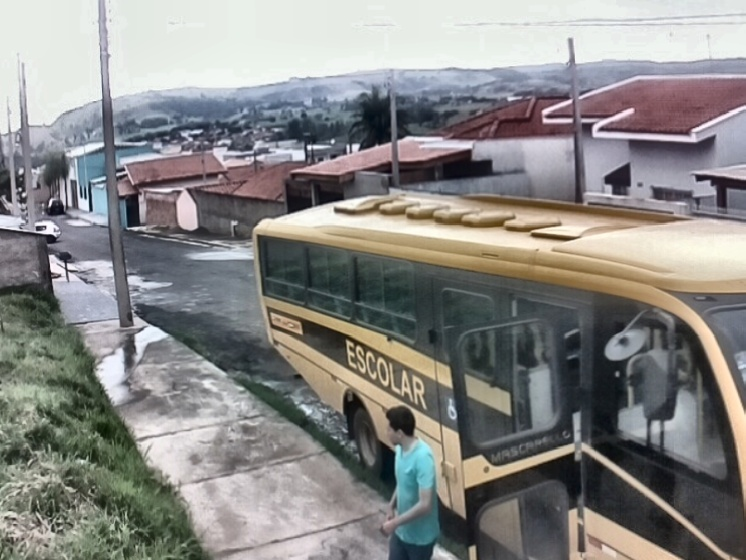person: (376, 405, 443, 560)
